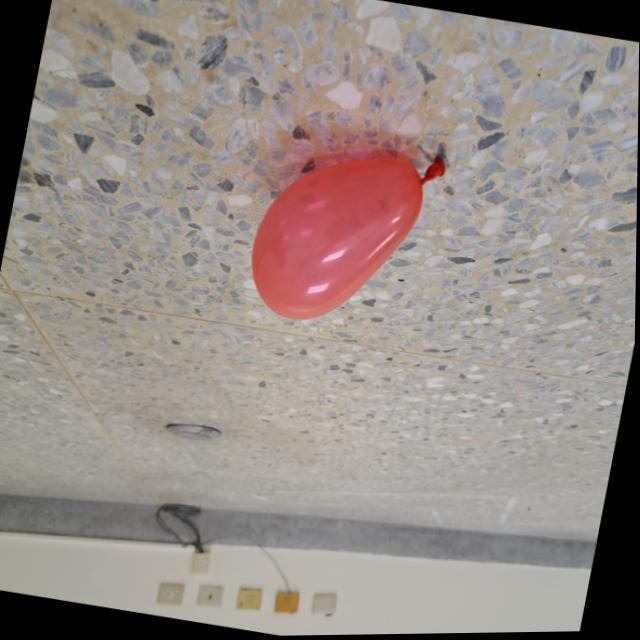red: (239, 127, 450, 343)
